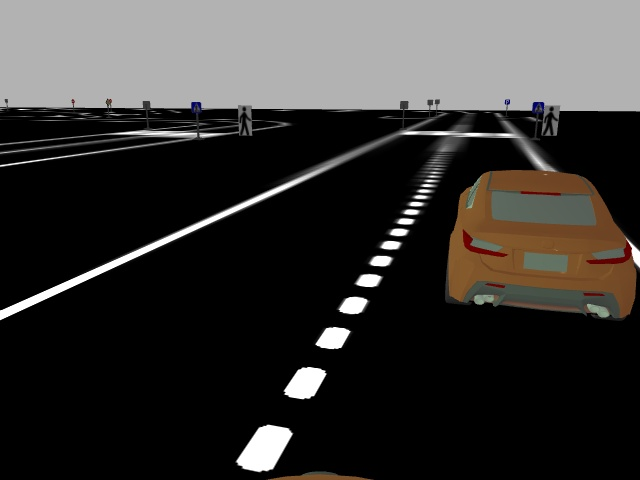obstacle_car: (440, 167, 636, 318)
pedestrian: (540, 104, 560, 137), (236, 103, 253, 136)
